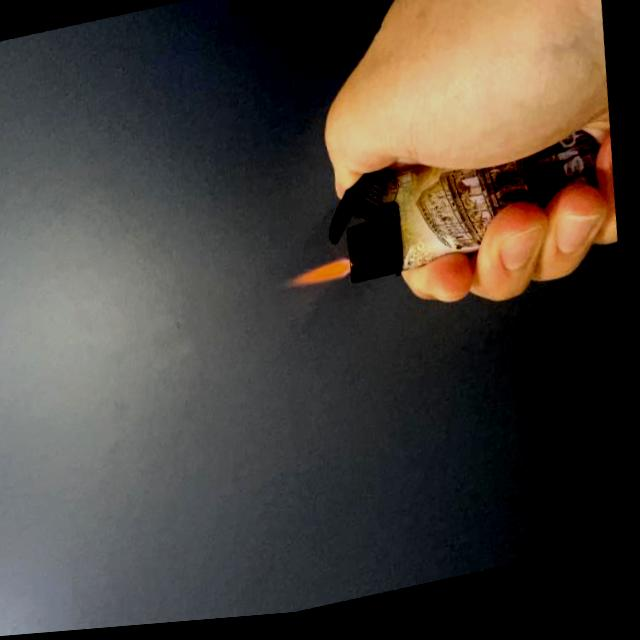helmet: (286, 261, 357, 298)
